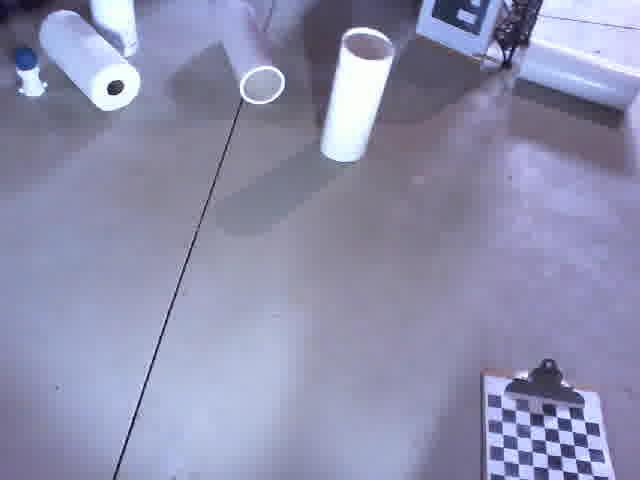coral: (316, 26, 398, 162), (511, 35, 640, 119), (212, 0, 287, 108)
